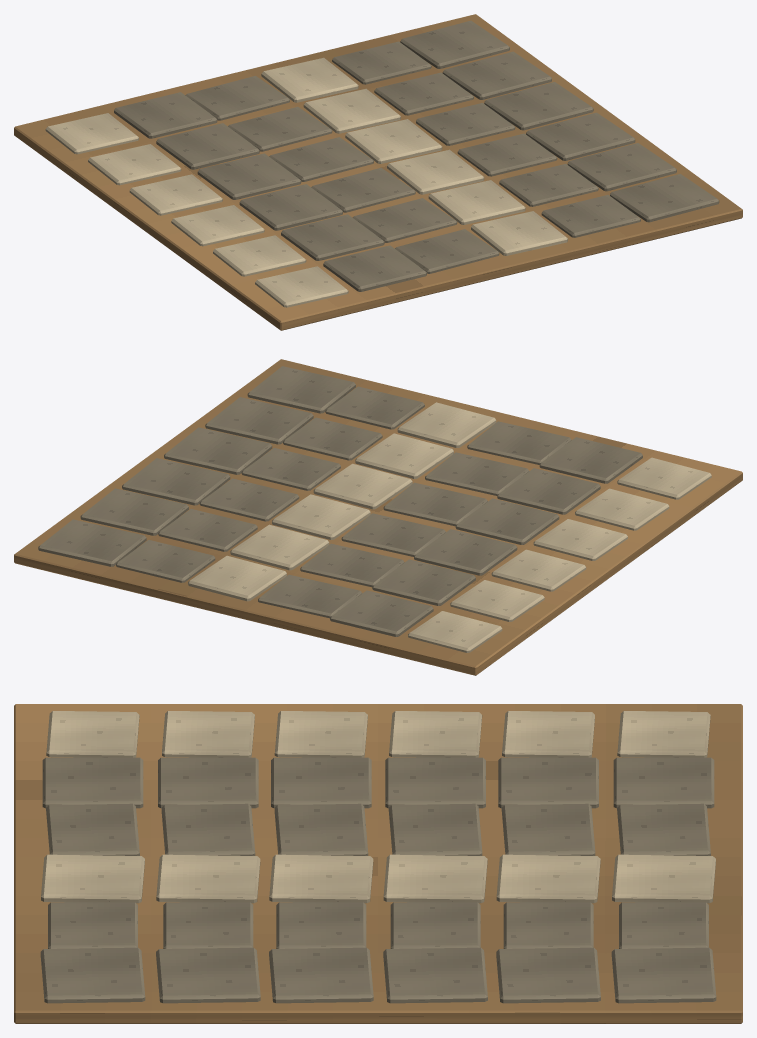
File: StonePlaza.glb
3 renders of one model, top to bottom at view 1: azimuth 30°, elevation 25°; view 2: azimuth 150°, elevation 25°; view 3: azimuth 270°, elevation 25°, orthographic. The views are drawn at different scales.
Visible parts, largest first — view 1: PlazaBed, PlazaStone05, PlazaStone23, PlazaStone29, PlazaStone35, PlazaStone11, PlazaStone17, PlazaStone19, PlazaStone31, PlazaStone07, PlazaStone13, PlazaStone25 (+25 smaller); view 2: PlazaBed, PlazaStone23, PlazaStone05, PlazaStone17, PlazaStone35, PlazaStone11, PlazaStone29, PlazaStone13, PlazaStone01, PlazaStone25, PlazaStone07, PlazaStone19 (+25 smaller); view 3: PlazaBed, PlazaStone05, PlazaStone11, PlazaStone17, PlazaStone35, PlazaStone23, PlazaStone29, PlazaStone01, PlazaStone31, PlazaStone19, PlazaStone25, PlazaStone07 (+25 smaller).
Part boxes in pixels (x1=…): PlazaBed: x1=14, y1=14, x2=742, y2=330; PlazaStone05: x1=610, y1=174, x2=719, y2=222; PlazaStone23: x1=484, y1=82, x2=593, y2=130; PlazaStone29: x1=442, y1=51, x2=551, y2=99; PlazaStone35: x1=400, y1=20, x2=509, y2=68; PlazaStone11: x1=567, y1=143, x2=676, y2=191; PlazaStone17: x1=526, y1=112, x2=635, y2=160; PlazaStone19: x1=197, y1=153, x2=301, y2=199; PlazaStone31: x1=114, y1=92, x2=217, y2=138; PlazaStone07: x1=281, y1=214, x2=384, y2=260; PlazaStone13: x1=239, y1=184, x2=342, y2=230; PlazaStone25: x1=156, y1=123, x2=259, y2=169; PlazaBed: x1=14, y1=359, x2=742, y2=675; PlazaStone23: x1=122, y1=458, x2=230, y2=505; PlazaStone05: x1=247, y1=366, x2=355, y2=413; PlazaStone17: x1=164, y1=427, x2=272, y2=474; PlazaStone35: x1=38, y1=519, x2=146, y2=566; PlazaStone11: x1=205, y1=397, x2=313, y2=444; PlazaStone29: x1=80, y1=488, x2=188, y2=535; PlazaStone13: x1=455, y1=498, x2=559, y2=544; PlazaStone01: x1=539, y1=437, x2=642, y2=483; PlazaStone25: x1=372, y1=559, x2=475, y2=605; PlazaStone07: x1=497, y1=468, x2=600, y2=514; PlazaStone19: x1=414, y1=529, x2=517, y2=575; PlazaBed: x1=14, y1=704, x2=742, y2=1023; PlazaStone05: x1=40, y1=947, x2=145, y2=1003; PlazaStone11: x1=156, y1=947, x2=260, y2=1003; PlazaStone17: x1=269, y1=947, x2=373, y2=1003; PlazaStone35: x1=611, y1=947, x2=716, y2=1003; PlazaStone23: x1=383, y1=947, x2=487, y2=1003; PlazaStone29: x1=496, y1=947, x2=600, y2=1003; PlazaStone01: x1=42, y1=757, x2=143, y2=808; PlazaStone31: x1=613, y1=757, x2=714, y2=808; PlazaStone19: x1=385, y1=757, x2=485, y2=808; PlazaStone25: x1=498, y1=757, x2=598, y2=808; PlazaStone07: x1=158, y1=757, x2=258, y2=808.
Size of the model in its own units: 6 by 0.178 by 6.
Materials: 3 (3 with a texture image).
